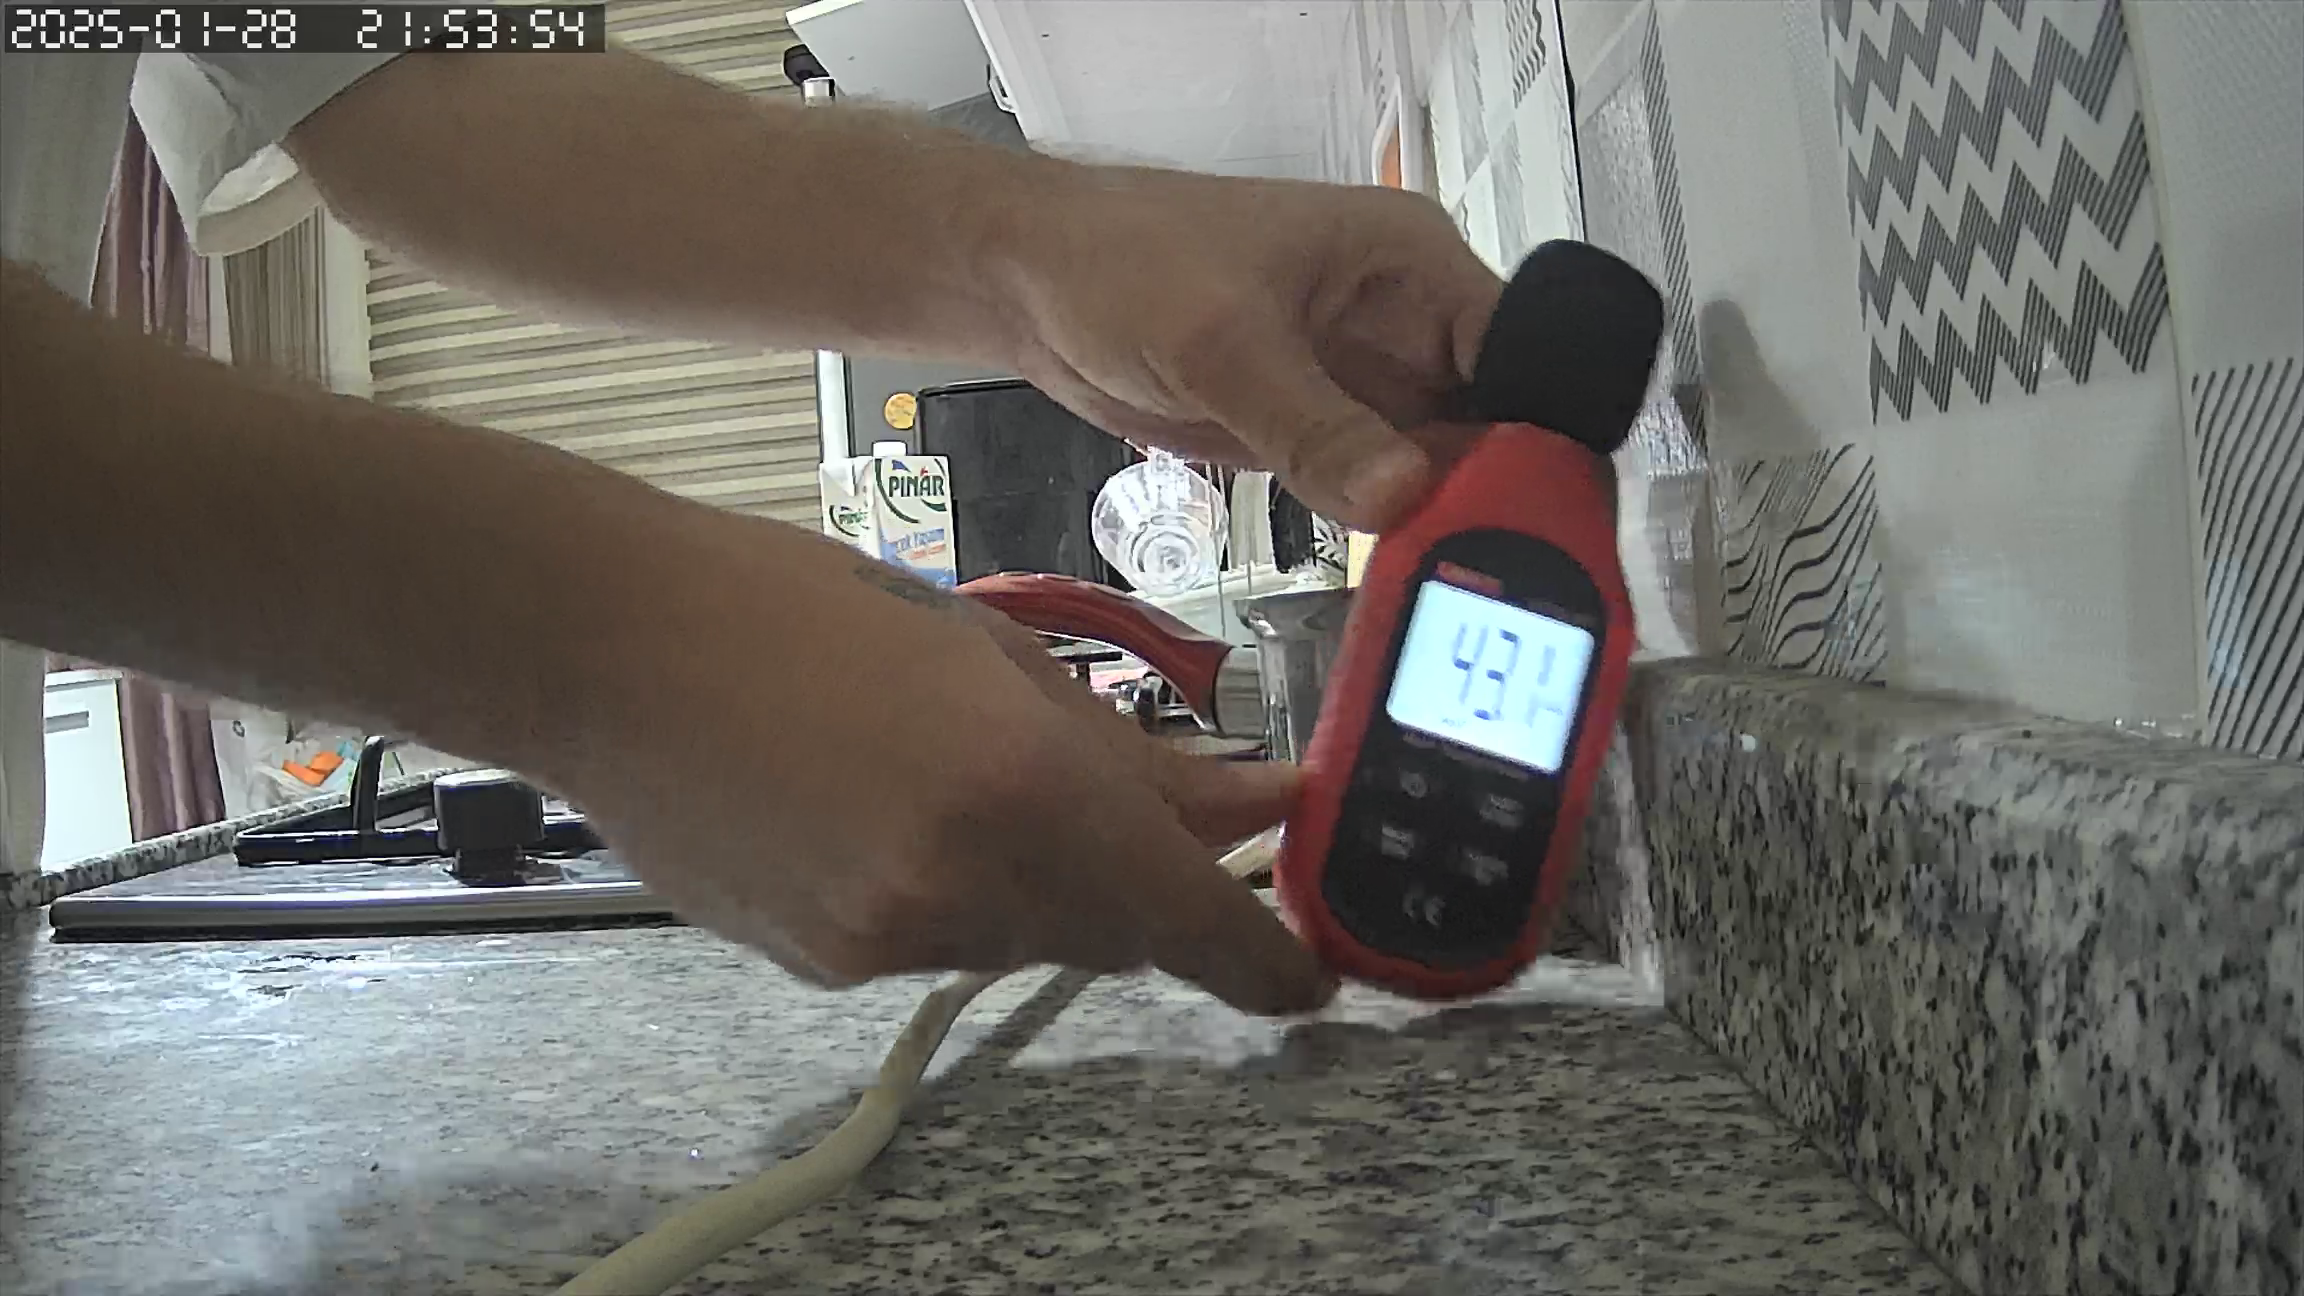screen: (1385, 581, 1587, 772)
